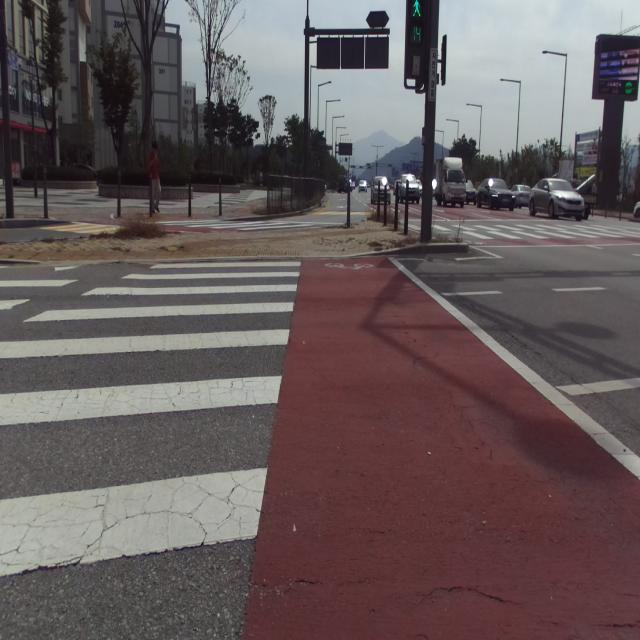초록불: (410, 1, 424, 82)
횡단보도: (0, 262, 301, 576), (398, 218, 640, 242), (148, 217, 344, 234)
